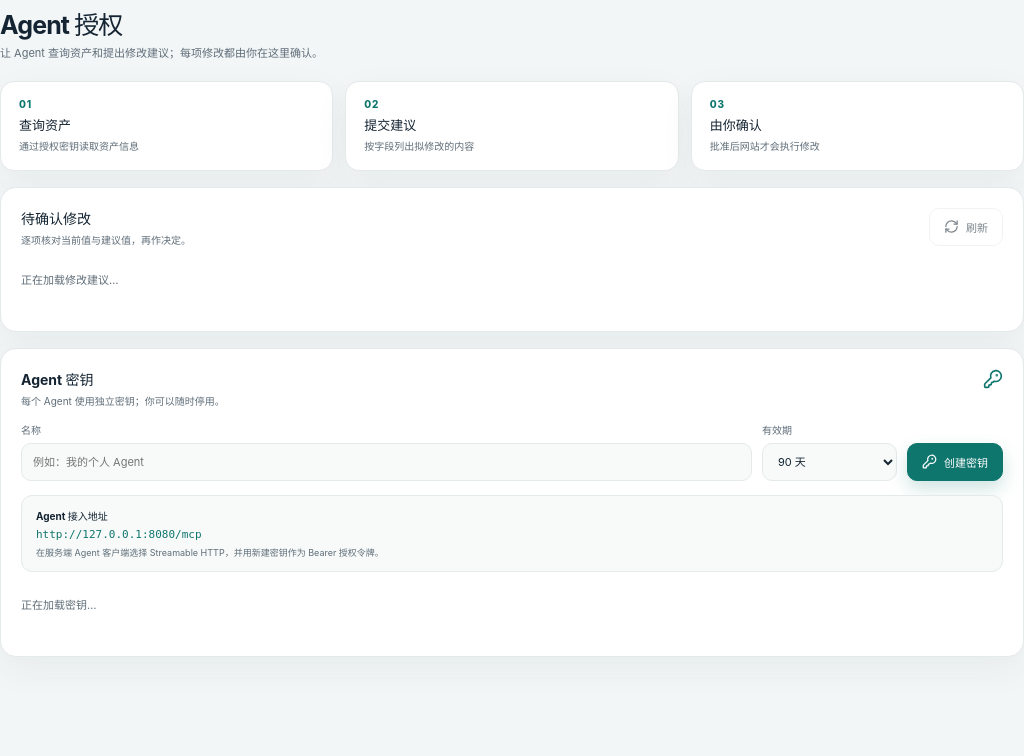
Agent authorization page › reveals a new key only in the current page session
Type "个人 Agent" into the field named "密钥名称".
click(386, 462); type("个人 Agent")  # box [21,443,752,481]
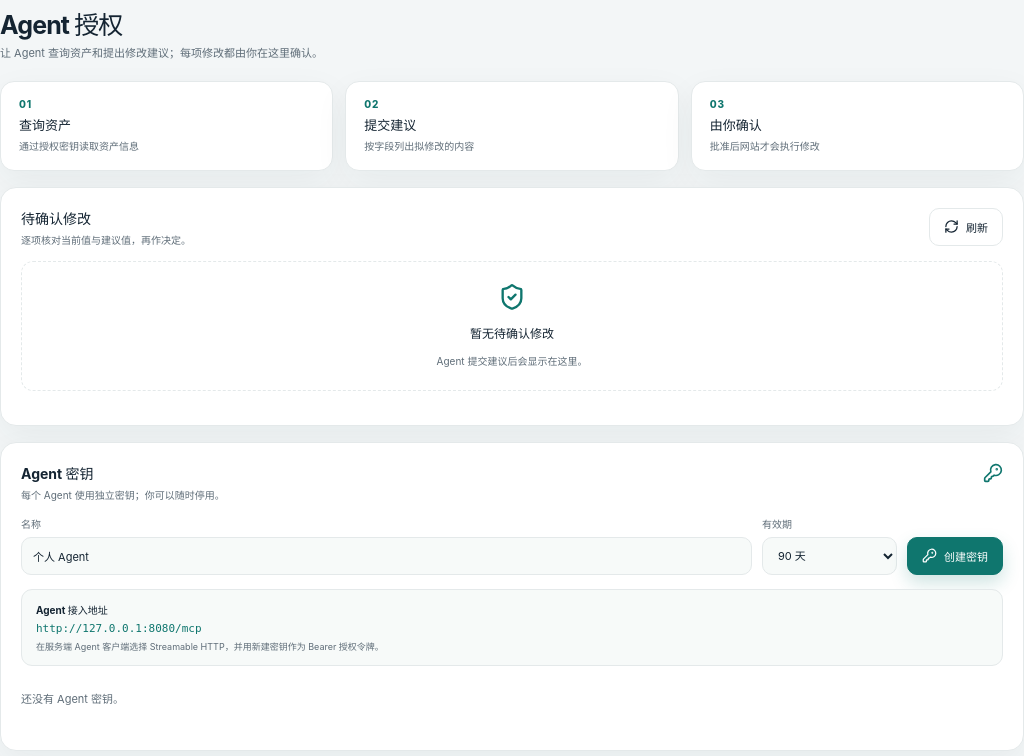
Click the button "创建密钥".
click(955, 556)  # box [907,537,1003,575]
(page scrolled)
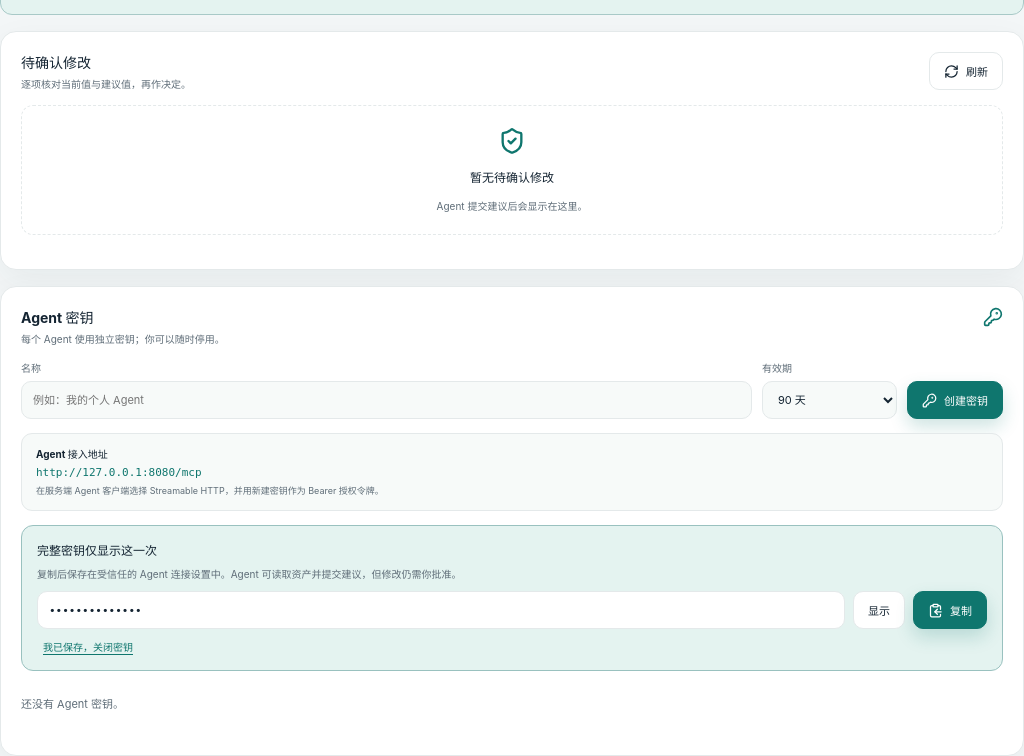
expect the password field named "新建密钥" holds "swag_only_once": met, box [37,591,845,629]
